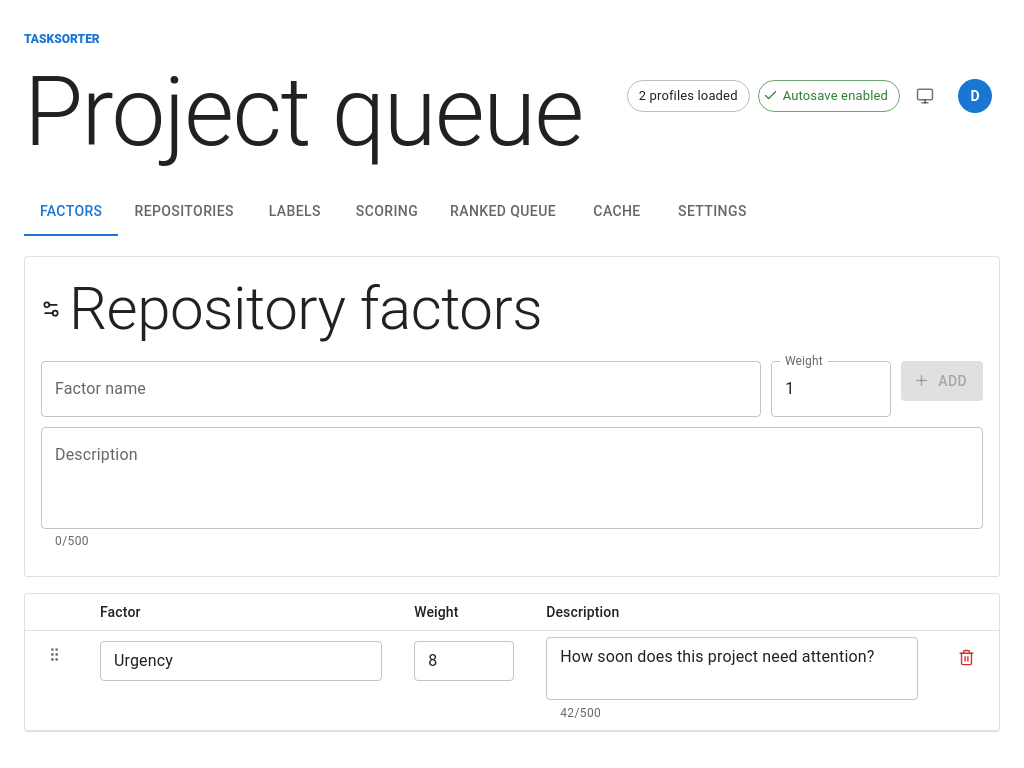
Scenario: App › keeps profile settings separate from ranked queue run controls
The width and height of the screenshot is (1024, 768).
Expected: the text "Autosave enabled" is shown, [783,88,888,103]
Click the tab "Settings" at (712, 212), box [662,188,763,236]
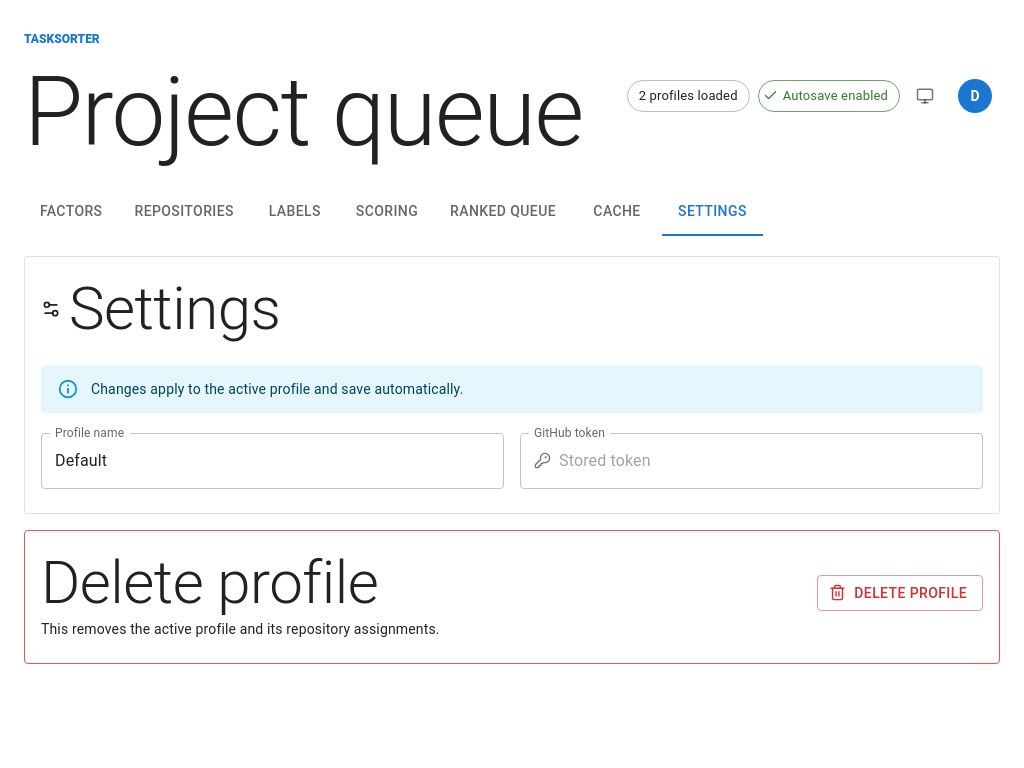
Expected: the field labelled "Top" is not shown
Result: the field labelled "Profile name" is shown at [41,433,504,489]
Result: the button "Delete profile" is shown at [817,575,983,611]
Click the tab "Ranked Queue" at (503, 212), box [434,188,572,236]
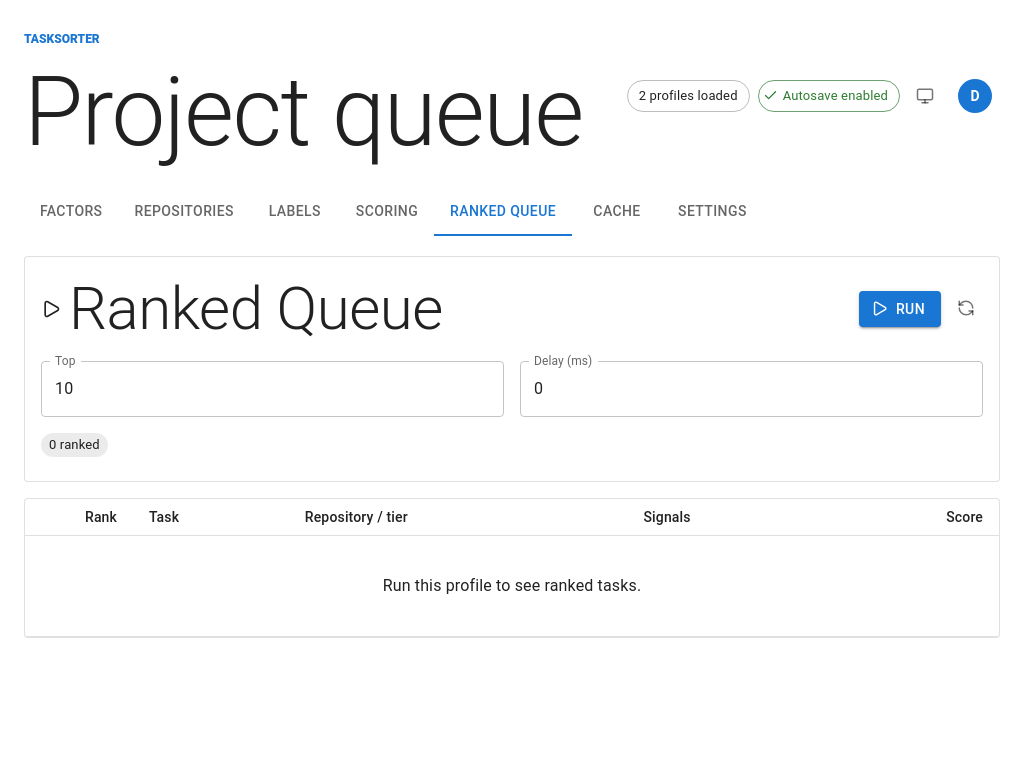
Result: the number field labelled "Top" is shown at [41,361,504,417]
Result: the number field labelled "Delay (ms)" is shown at [520,361,983,417]
Result: the button "Run" is shown at [859,291,941,327]
